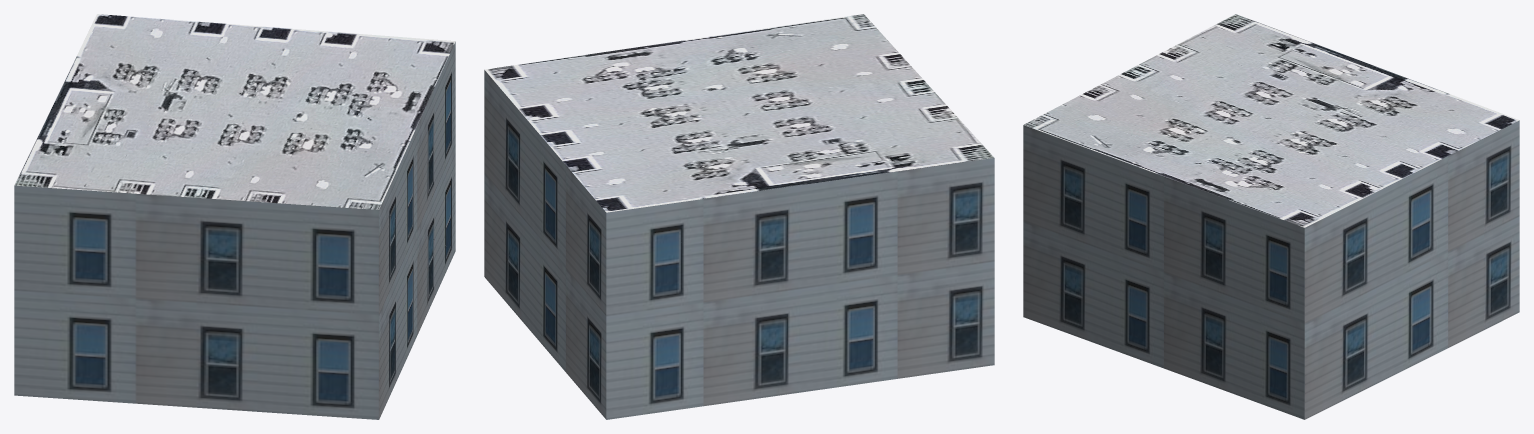
Rendered from ResTex__4689.fbx.
3 renders of one model, left to right at view 1: azimuth 30°, elevation 25°; view 2: azimuth 150°, elevation 25°; view 3: azimuth 270°, elevation 25°, orthographic. The views are drawn at different scales.
Parts seen in each view (by area): view 1: CityEngineMaterial_18_m, CityEngineMaterial_m; view 2: CityEngineMaterial_18_m, CityEngineMaterial_m; view 3: CityEngineMaterial_18_m, CityEngineMaterial_m.
Part boxes in pixels (left/top/right/bottom): CityEngineMaterial_18_m: left=14, top=42, right=455, bottom=419; CityEngineMaterial_m: left=14, top=14, right=455, bottom=209; CityEngineMaterial_18_m: left=484, top=70, right=994, bottom=419; CityEngineMaterial_m: left=485, top=14, right=994, bottom=212; CityEngineMaterial_18_m: left=1023, top=120, right=1519, bottom=419; CityEngineMaterial_m: left=1024, top=14, right=1519, bottom=227.
Size of the model in its own units: 14.33 by 6 by 14.06.
Materials: 2 (2 with a texture image).
